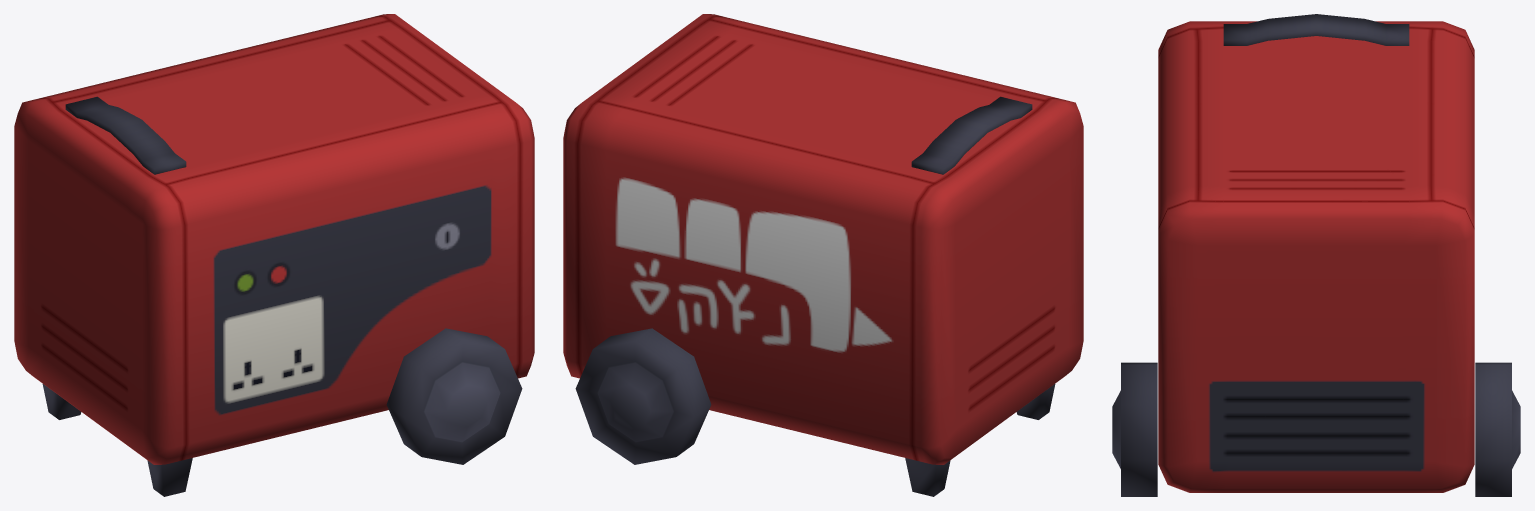
Rendered from Generator.fbx.
The picture shows the model from 3 angles, left to right: view 1: azimuth 30°, elevation 25°; view 2: azimuth 150°, elevation 25°; view 3: azimuth 270°, elevation 25°; orthographic projection. The views are drawn at different scales.
Parts seen in each view (by area): view 1: Generator; view 2: Generator; view 3: Generator.
Boxes of the visible parts, x1=… form: Generator: x1=14, y1=14, x2=534, y2=496; Generator: x1=563, y1=14, x2=1083, y2=496; Generator: x1=1112, y1=14, x2=1520, y2=496.
Size of the model in its own units: 1.91 by 1.6 by 1.71.
1 material, 1 textured.
